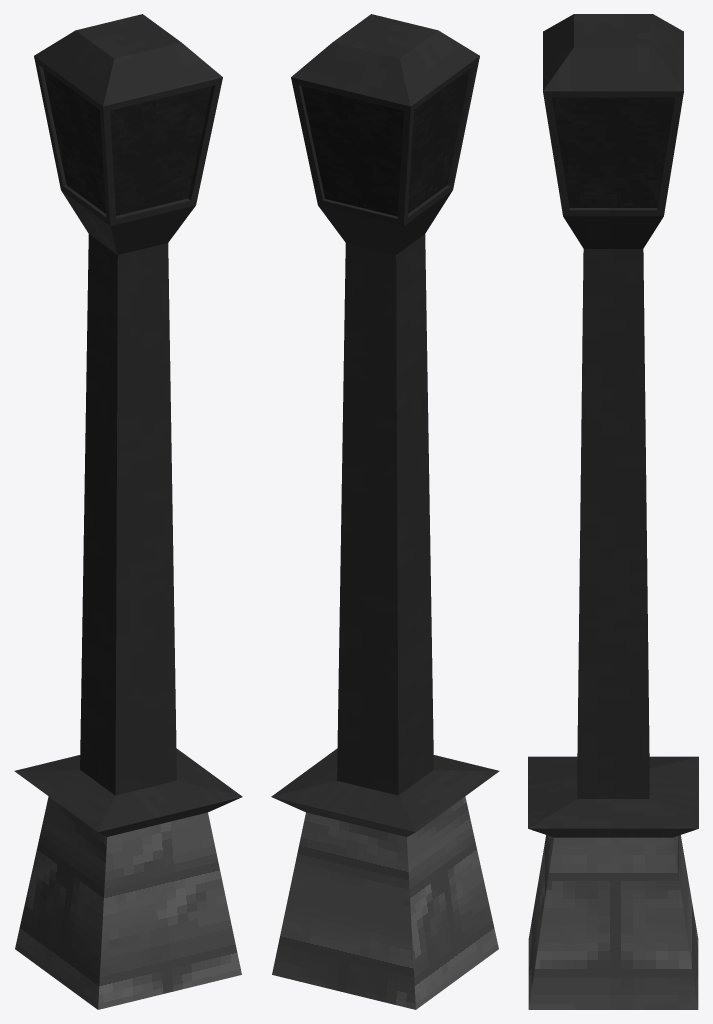
File: PostLight.fbx
3 renders of one model, left to right at view 1: azimuth 30°, elevation 25°; view 2: azimuth 150°, elevation 25°; view 3: azimuth 270°, elevation 25°, orthographic.
Visible parts, largest first — view 1: Cube; view 2: Cube; view 3: Cube.
Boxes of the visible parts, box(x1,y1,x2,y2) form: Cube: box(14, 14, 242, 1009); Cube: box(271, 14, 499, 1009); Cube: box(528, 14, 698, 1009).
Bounding box in the file's own units: 80.64 × 491 × 80.64.
